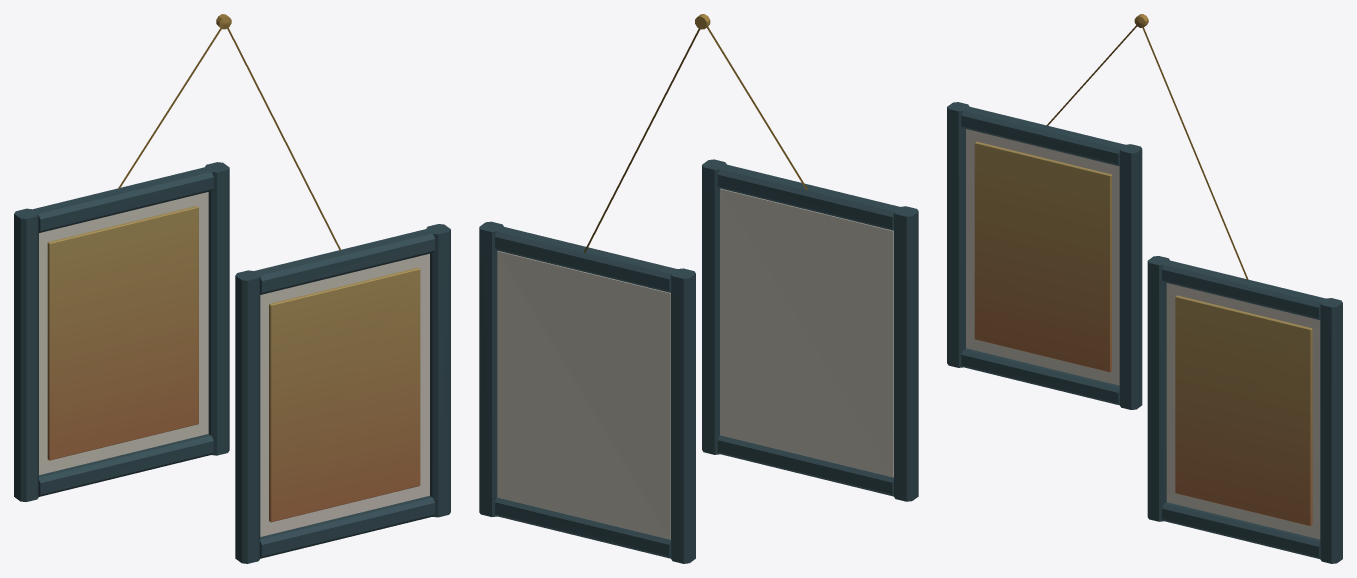
The model's file is dining-wall-art.glb.
The picture shows the model from 3 angles, left to right: view 1: azimuth 30°, elevation 25°; view 2: azimuth 150°, elevation 25°; view 3: azimuth 330°, elevation 25°; orthographic projection. The views are drawn at different scales.
Parts seen in each view (by area): view 1: dining_wall_art; view 2: dining_wall_art; view 3: dining_wall_art.
Boxes of the visible parts, bbox=[...] form: dining_wall_art: bbox=[14, 14, 450, 563]; dining_wall_art: bbox=[479, 14, 918, 563]; dining_wall_art: bbox=[947, 14, 1342, 563].
Size of the model in its own units: 0.7 by 0.85 by 0.03.
